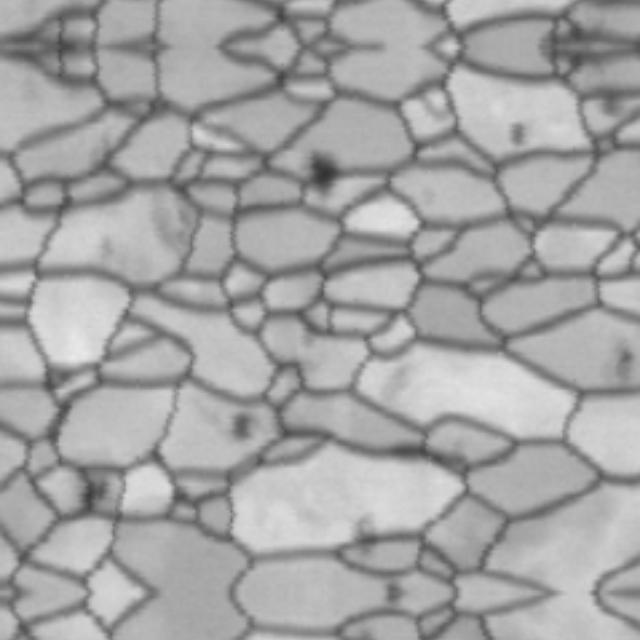good_void: (377, 364, 419, 409), (306, 147, 341, 199), (351, 509, 379, 563), (224, 409, 261, 449), (81, 476, 110, 513), (611, 343, 635, 386), (506, 123, 528, 151), (94, 237, 113, 261), (354, 625, 379, 640), (421, 189, 440, 207)
